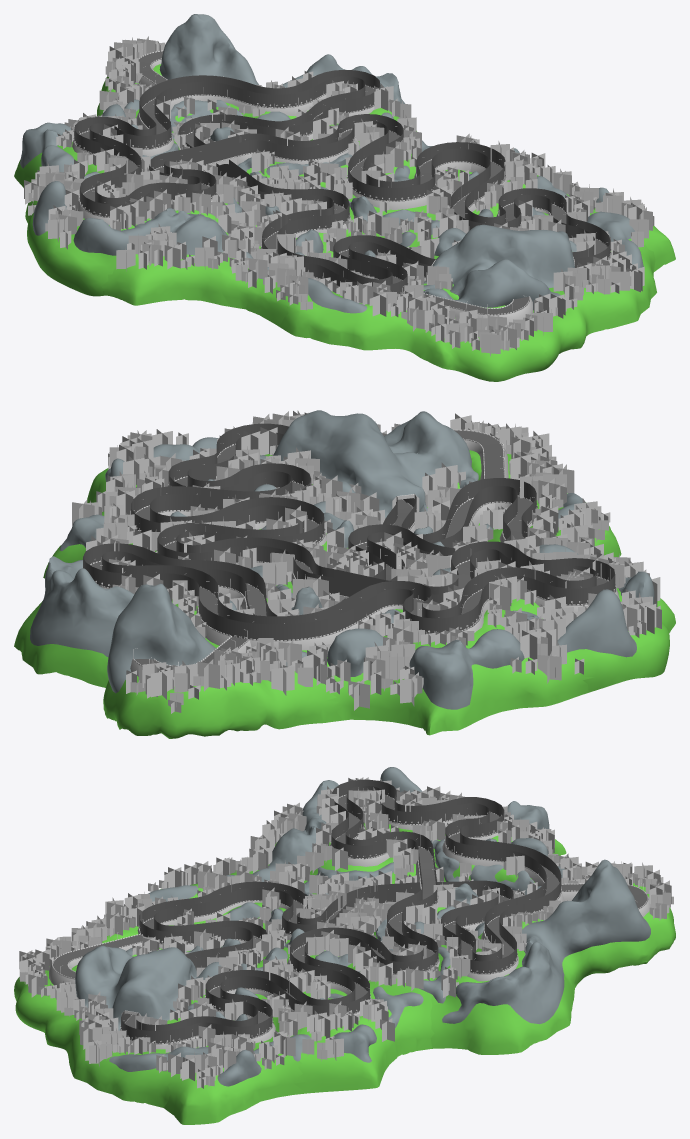
The model's file is Track05_winter.fbx.
3 views of the same model, one above another, from view 1: azimuth 30°, elevation 25°; view 2: azimuth 150°, elevation 25°; view 3: azimuth 270°, elevation 25° (orthographic). The views are drawn at different scales.
Parts seen in each view (by area): view 1: Trees, Road_col, Cliffs, Ground, Road; view 2: Trees, Road_col, Cliffs, Ground, Road; view 3: Trees, Road_col, Cliffs, Ground, Road.
Boxes of the visible parts, x1,y1,x2,y2 form: Trees: (24, 36, 654, 356); Road_col: (74, 69, 610, 293); Cliffs: (20, 14, 643, 313); Ground: (14, 64, 675, 381); Road: (72, 43, 611, 324); Trees: (72, 410, 661, 713); Road_col: (83, 423, 615, 640); Cliffs: (30, 410, 654, 709); Ground: (14, 450, 675, 738); Road: (82, 421, 619, 676); Trees: (19, 777, 673, 1088); Road_col: (121, 779, 561, 1043); Cliffs: (75, 767, 650, 1086); Ground: (14, 823, 675, 1124); Road: (49, 793, 650, 1049).
Bounding box in the file's own units: 442 × 115 × 487.
